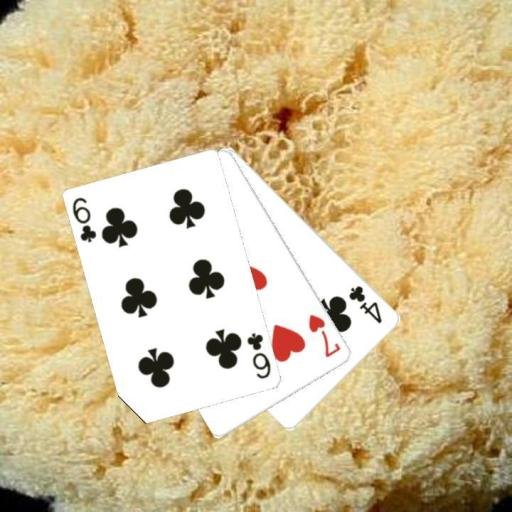4C: (346, 282, 384, 325)
6C: (70, 194, 99, 245), (244, 330, 273, 380)
7H: (305, 311, 343, 359)
